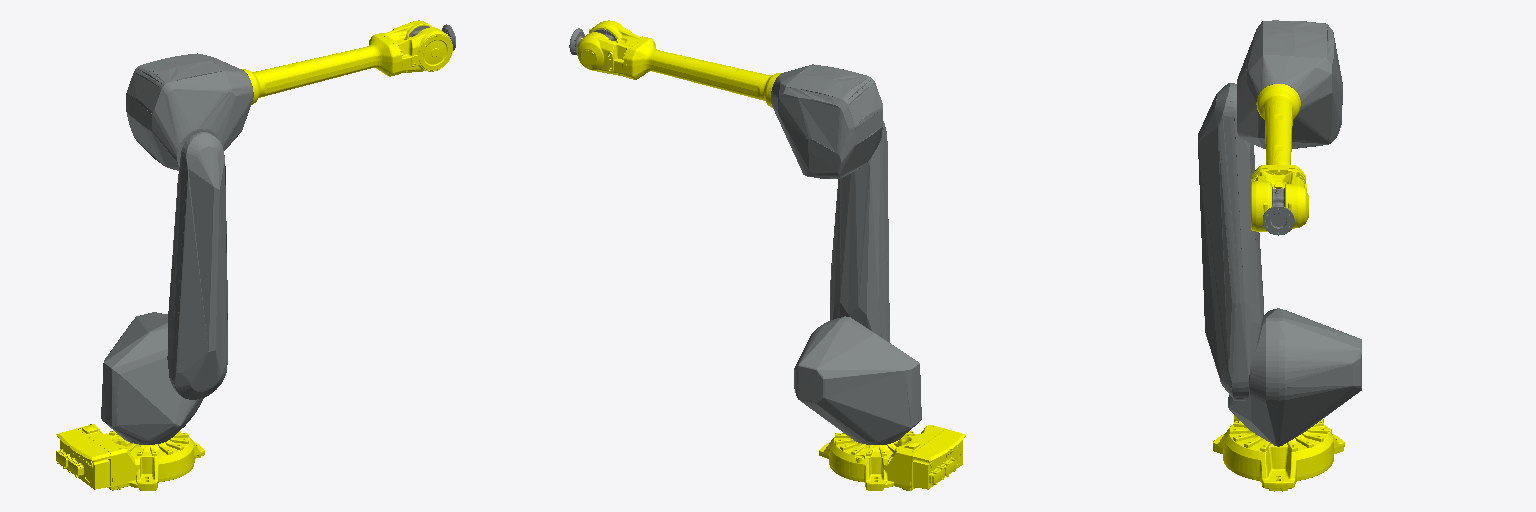
robot.urdf — IRB4600_40-255:
<robot
  name="IRB4600_40-255">
  <link
    name="base_link">
    <!--inertial>
      <origin
        xyz="0 0 0"
        rpy="0 0 0" />
      <mass
        value="0" />
      <inertia
        ixx="0"
        ixy="0"
        ixz="0"
        iyy="0"
        iyz="0"
        izz="0" />
    </inertial-->
    <visual>
      <origin
        xyz="0 0 0"
        rpy="0 0 0" />
      <geometry>
        <mesh
          filename="package://IRB4600_40-255/meshes/visual/base_link.stl" />
      </geometry>
      <!--material
        name="">
        <color
          rgba="0.529411764705882 0.549019607843137 0.549019607843137 1" />
      </material-->
      <material name="yellow">
        <color rgba="1 1 0 1"/>
      </material>
    </visual>
    <collision>
      <origin
        xyz="0 0 0"
        rpy="0 0 0" />
      <geometry>
        <mesh
          filename="package://IRB4600_40-255/meshes/collision/base_link.stl" />
      </geometry>
    </collision>
  </link>
  <link
    name="link_1">
    <inertial>
      <origin
        xyz="0 0 0"
        rpy="0 0 0" />
      <mass
        value="0" />
      <inertia
        ixx="0"
        ixy="0"
        ixz="0"
        iyy="0"
        iyz="0"
        izz="0" />
    </inertial>
    <visual>
      <origin
        xyz="0 0 0"
        rpy="0 0 0" />
      <geometry>
        <mesh
          filename="package://IRB4600_40-255/meshes/visual/link_1.stl" />
      </geometry>
      <material
        name="">
        <color
          rgba="0.52941 0.54902 0.54902 1" />
      </material>
    </visual>
    <collision>
      <origin
        xyz="0 0 0"
        rpy="0 0 0" />
      <geometry>
        <mesh
          filename="package://IRB4600_40-255/meshes/collision/link_1.stl" />
      </geometry>
    </collision>
  </link>
  <joint
    name="joint_1"
    type="revolute">
    <origin
      xyz="0 0 0.157"
      rpy="0 0 0" />
    <parent
      link="base_link" />
    <child
      link="link_1" />
    <axis
      xyz="0 0 1" />
    <limit effort="0" lower="-3.141" upper="3.141" velocity="3.054"/>
  </joint>
  <link
    name="link_2">
    <inertial>
      <origin
        xyz="0 0 0"
        rpy="0 0 0" />
      <mass
        value="0" />
      <inertia
        ixx="0"
        ixy="0"
        ixz="0"
        iyy="0"
        iyz="0"
        izz="0" />
    </inertial>
    <visual>
      <origin
        xyz="0 0 0"
        rpy="0 0 0" />
      <geometry>
        <mesh
          filename="package://IRB4600_40-255/meshes/visual/link_2.stl" />
      </geometry>
      <material
        name="">
        <color
          rgba="0.529411764705882 0.549019607843137 0.549019607843137 1" />
      </material>
    </visual>
    <collision>
      <origin
        xyz="0 0 0"
        rpy="0 0 0" />
      <geometry>
        <mesh
          filename="package://IRB4600_40-255/meshes/collision/link_2.stl" />
      </geometry>
    </collision>
  </link>
  <joint
    name="joint_2"
    type="revolute">
    <origin
      xyz="0.175 -0.1225 0.338"
      rpy="0 0 0" />
    <parent
      link="link_1" />
    <child
      link="link_2" />
    <axis
      xyz="0 1 0" />
    <limit effort="0" lower="-1.570" upper="2.617" velocity="3.054"/>
  </joint>
  <link
    name="link_3">
    <inertial>
      <origin
        xyz="0 0 0"
        rpy="0 0 0" />
      <mass
        value="0" />
      <inertia
        ixx="0"
        ixy="0"
        ixz="0"
        iyy="0"
        iyz="0"
        izz="0" />
    </inertial>
    <visual>
      <origin
        xyz="0 0 0"
        rpy="0 0 0" />
      <geometry>
        <mesh
          filename="package://IRB4600_40-255/meshes/visual/link_3.stl" />
      </geometry>
      <material
        name="">
        <color
          rgba="0.52941 0.54902 0.54902 1" />
      </material>
    </visual>
    <collision>
      <origin
        xyz="0 0 0"
        rpy="0 0 0" />
      <geometry>
        <mesh
          filename="package://IRB4600_40-255/meshes/collision/link_3.stl" />
      </geometry>
    </collision>
  </link>
  <joint
    name="joint_3"
    type="revolute">
    <origin
      xyz="0 -0.0381050009998999 1.095"
      rpy="0 0 0" />
    <parent
      link="link_2" />
    <child
      link="link_3" />
    <axis
      xyz="0 1 0" />
    <limit effort="0" lower="-3.141" upper="1.308" velocity="3.054"/>
  </joint>
  <link
    name="link_4">
    <inertial>
      <origin
        xyz="0 0 0"
        rpy="0 0 0" />
      <mass
        value="0" />
      <inertia
        ixx="0"
        ixy="0"
        ixz="0"
        iyy="0"
        iyz="0"
        izz="0" />
    </inertial>
    <visual>
      <origin
        xyz="0 0 0"
        rpy="0 0 0" />
      <geometry>
        <mesh
          filename="package://IRB4600_40-255/meshes/visual/link_4.stl" />
      </geometry>
      <!--material
        name="">
        <color
          rgba="0.529411764705882 0.549019607843137 0.549019607843137 1" />
      </material-->
      <!--material name="yellow"/-->
      <material name="yellow">
        <color rgba="1 1 0 1"/>
      </material>
    </visual>
    <collision>
      <origin
        xyz="0 0 0"
        rpy="0 0 0" />
      <geometry>
        <mesh
          filename="package://IRB4600_40-255/meshes/collision/link_4.stl" />
      </geometry>
    </collision>
  </link>
  <joint
    name="joint_4"
    type="revolute">
    <origin
      xyz="0.3315 0.160605000999907 0.175"
      rpy="0 0 0" />
    <parent
      link="link_3" />
    <child
      link="link_4" />
    <axis
      xyz="1 0 0" />
    <limit effort="0" lower="-6.981" upper="6.981" velocity="4.363"/>
  </joint>
  <link
    name="link_5">
    <inertial>
      <origin
        xyz="0 0 0"
        rpy="0 0 0" />
      <mass
        value="0" />
      <inertia
        ixx="0"
        ixy="0"
        ixz="0"
        iyy="0"
        iyz="0"
        izz="0" />
    </inertial>
    <visual>
      <origin
        xyz="0 0 0"
        rpy="0 0 0" />
      <geometry>
        <mesh
          filename="package://IRB4600_40-255/meshes/visual/link_5.stl" />
      </geometry>
      <material
        name="">
        <color
          rgba="0.529411764705882 0.549019607843137 0.549019607843137 1" />
      </material>
    </visual>
    <collision>
      <origin
        xyz="0 0 0"
        rpy="0 0 0" />
      <geometry>
        <mesh
          filename="package://IRB4600_40-255/meshes/collision/link_5.stl" />
      </geometry>
    </collision>
  </link>
  <joint
    name="joint_5"
    type="revolute">
    <origin
      xyz="0.9385 0 0"
      rpy="0 0 0" />
    <parent
      link="link_4" />
    <child
      link="link_5" />
    <axis
      xyz="0 1 0" />
    <limit effort="0" lower="-2.181" upper="2.094" velocity="4.363"/>
  </joint>
  <link
    name="link_6">
    <inertial>
      <origin
        xyz="0 0 0"
        rpy="0 0 0" />
      <mass
        value="0" />
      <inertia
        ixx="0"
        ixy="0"
        ixz="0"
        iyy="0"
        iyz="0"
        izz="0" />
    </inertial>
    <visual>
      <origin
        xyz="0 0 0"
        rpy="0 0 0" />
      <geometry>
        <mesh
          filename="package://IRB4600_40-255/meshes/visual/link_6.stl" />
      </geometry>
      <material
        name="">
        <color
          rgba="0.52941 0.54902 0.54902 1" />
      </material>
    </visual>
    <collision>
      <origin
        xyz="0 0 0"
        rpy="0 0 0" />
      <geometry>
        <mesh
          filename="package://IRB4600_40-255/meshes/collision/link_6.stl" />
      </geometry>
    </collision>
  </link>
  <joint
    name="joint_6"
    type="revolute">
    <origin
      xyz="-0.0585 0 0"
      rpy="0 0 0" />
    <parent
      link="link_5" />
    <child
      link="link_6" />
    <axis
      xyz="1 0 0" />
    <limit effort="0" lower="-6.981" upper="6.981" velocity="6.283"/>
  </joint>
  <link name="tool0"/>
  <joint type="fixed" name="joint_6-tool0">
    <parent link="link_6"/>
    <child link="tool0"/>
    <origin xyz="0 0 0" rpy="0 1.57079632679 0"/>
  </joint>


  <link name="base" />
  <joint name="base_link-base" type="fixed">
    <origin xyz="0 0 0" rpy="0 0 0"/>
    <parent link="base_link"/>
    <child link="base"/>
  </joint>
</robot>

--- Facts derived from the render (not from the file) ---
Views: 3 orthographic renders of the robot side by side, from view 1: azimuth 30°, elevation 25°; view 2: azimuth 150°, elevation 25°; view 3: azimuth 270°, elevation 25°.
Model IRB4600_40-255 with 9 links and 8 joints (6 revolute, 2 fixed), rooted at base_link, posed every joint at zero.
Visible links, largest first — view 1: link_2, link_3, link_1, base_link, link_4; view 2: link_1, link_3, link_2, base_link, link_4; view 3: link_2, link_1, link_3, base_link, link_4, link_6.
Boxes of the visible links, x1,y1,x2,y2 form: link_2: [167, 132, 227, 399]; link_3: [126, 53, 252, 170]; link_1: [101, 312, 203, 444]; base_link: [56, 424, 204, 490]; link_4: [242, 20, 452, 104]; link_1: [794, 316, 921, 444]; link_3: [771, 64, 882, 178]; link_2: [830, 121, 889, 342]; base_link: [819, 425, 965, 490]; link_4: [577, 20, 780, 107]; link_2: [1198, 83, 1263, 400]; link_1: [1228, 308, 1361, 446]; link_3: [1237, 20, 1342, 148]; base_link: [1213, 415, 1344, 491]; link_4: [1251, 84, 1308, 231]; link_6: [1263, 206, 1294, 235].
Bounding box of the posed robot: 1.98 × 0.6359 × 1.92 m (x, y, z).
Meshes: 7 distinct files referenced, 7 mesh visuals loaded (7 binary STL).